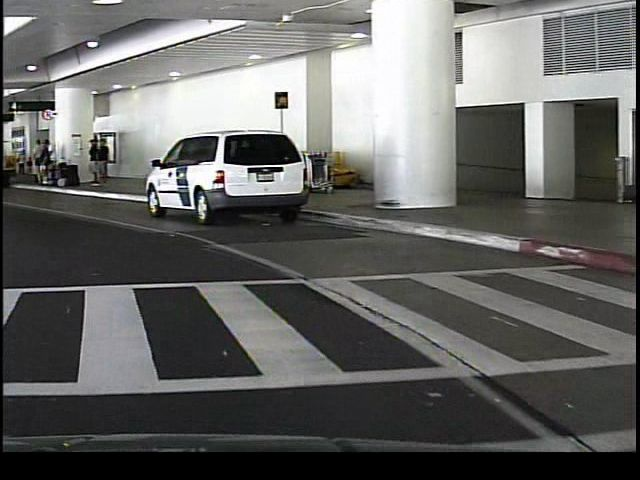person: (25, 135, 40, 186), (95, 138, 110, 187)
